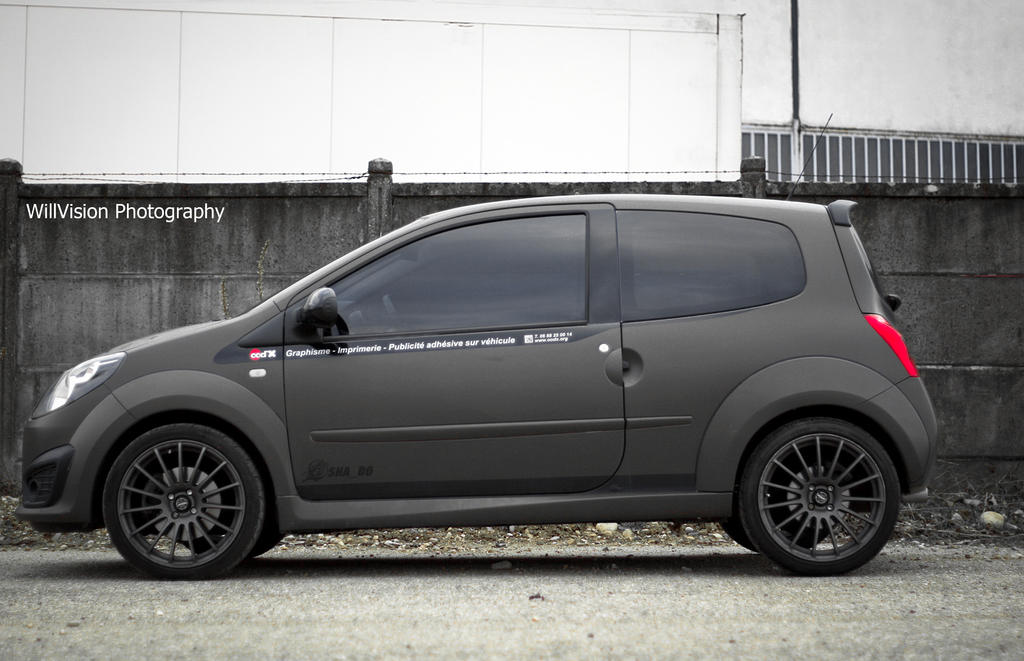Car: (19, 190, 922, 586)
